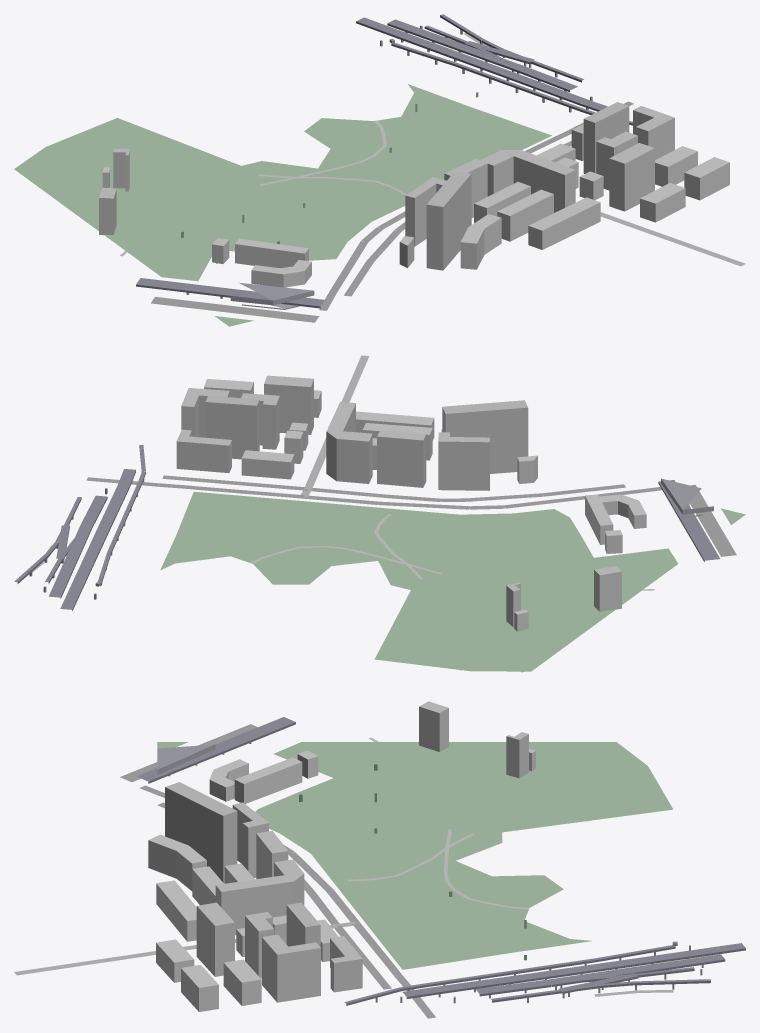
The picture shows the model from 3 angles, top to bottom: view 1: azimuth 30°, elevation 25°; view 2: azimuth 150°, elevation 25°; view 3: azimuth 270°, elevation 25°; orthographic projection. The views are drawn at different scales.
Bounding box in the file's own units: 560 × 60.72 × 587.
